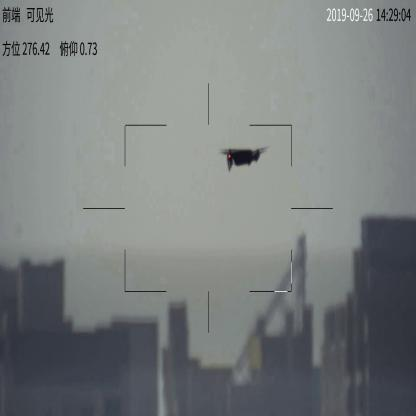uav: (216, 145, 271, 171)
